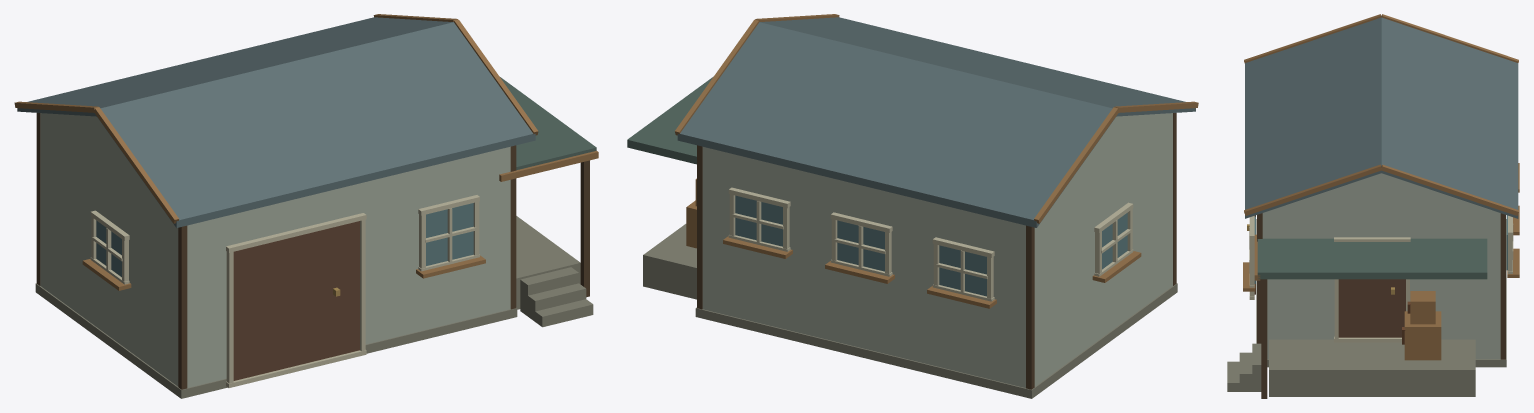
The model's file is Building_Settlement_ProduceDepot_001.glb.
The picture shows the model from 3 angles, left to right: view 1: azimuth 30°, elevation 25°; view 2: azimuth 150°, elevation 25°; view 3: azimuth 270°, elevation 25°; orthographic projection. The views are drawn at different scales.
Parts seen in each view (by area): view 1: Building_Settlement_ProduceDepot_001; view 2: Building_Settlement_ProduceDepot_001; view 3: Building_Settlement_ProduceDepot_001.
Boxes of the visible parts, x1,y1,x2,y2 form: Building_Settlement_ProduceDepot_001: [14, 14, 598, 398]; Building_Settlement_ProduceDepot_001: [627, 14, 1198, 398]; Building_Settlement_ProduceDepot_001: [1227, 14, 1519, 398].
Size of the model in its own units: 9.28 by 4.97 by 6.36.
